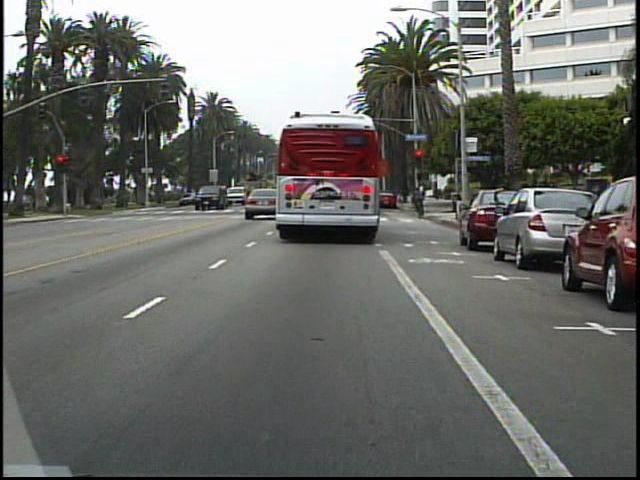person: (408, 181, 429, 216)
